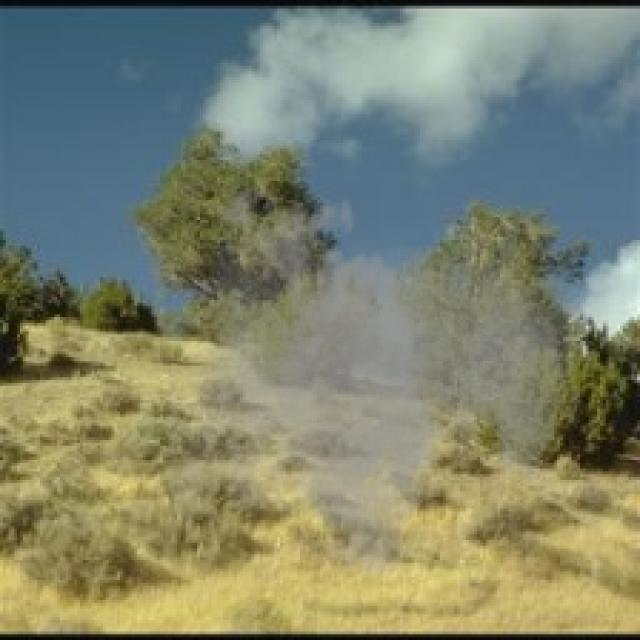smoke: (166, 172, 583, 594)
